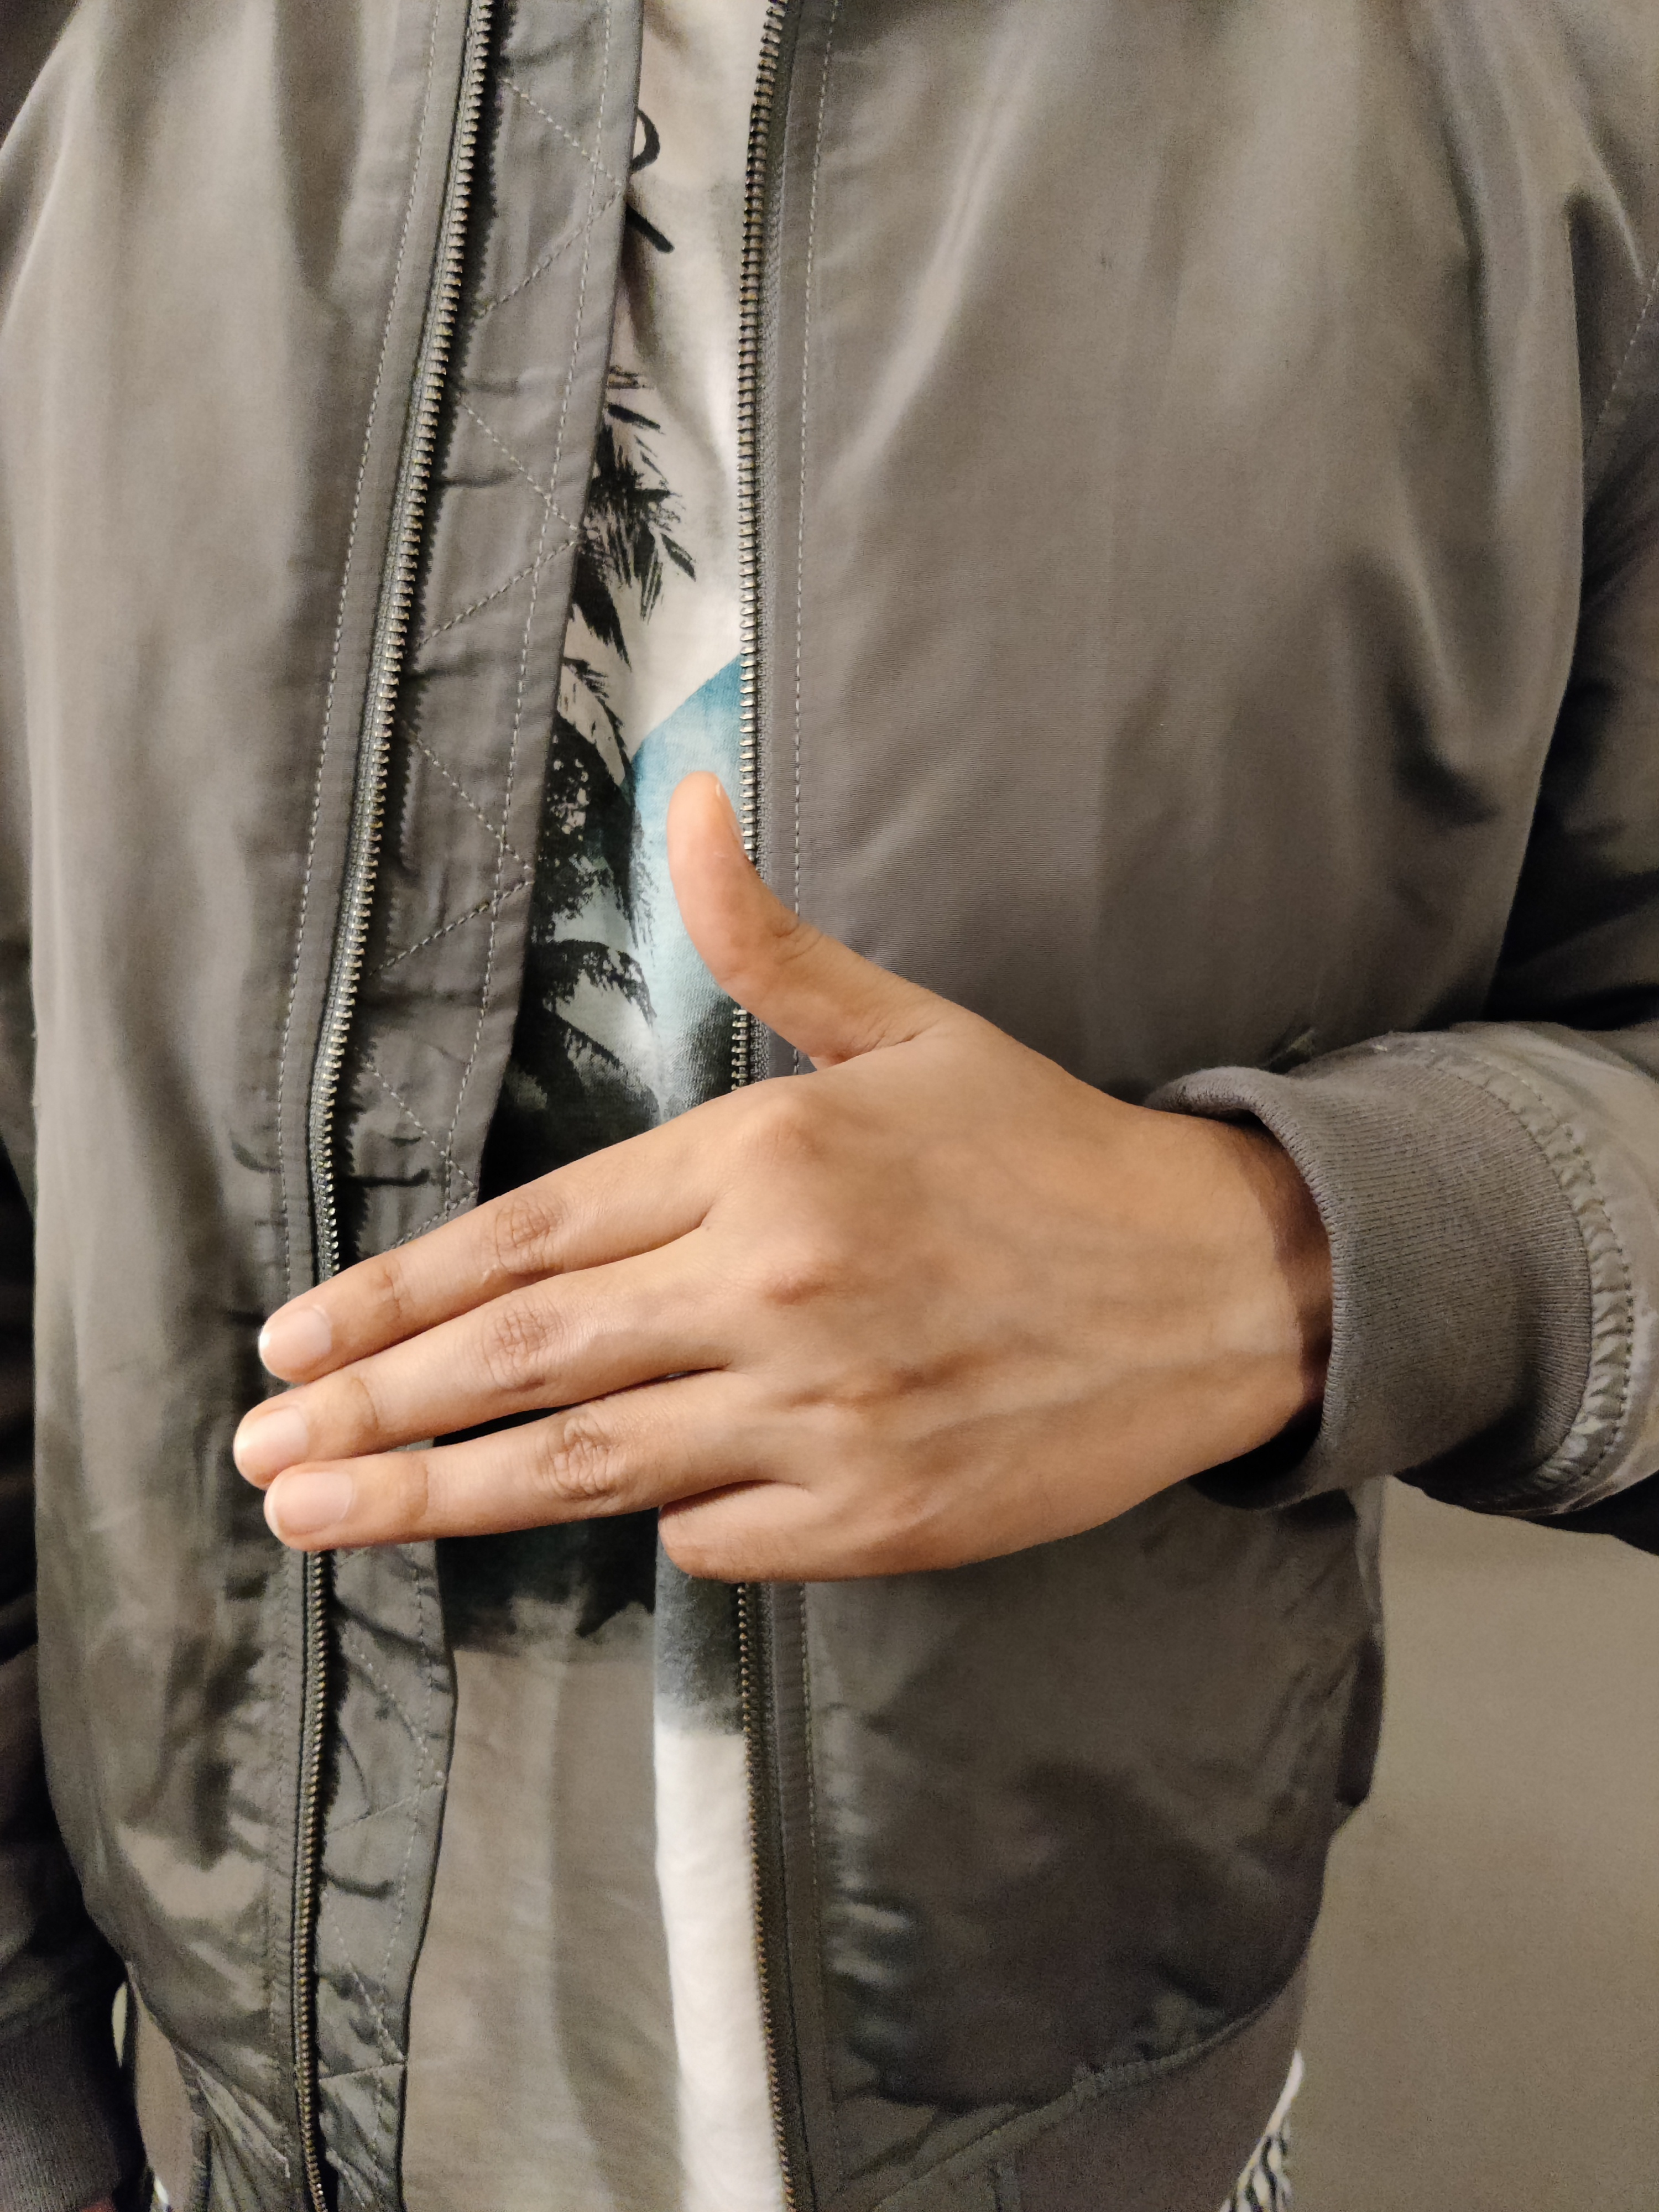right: (136, 604, 1582, 1761)
